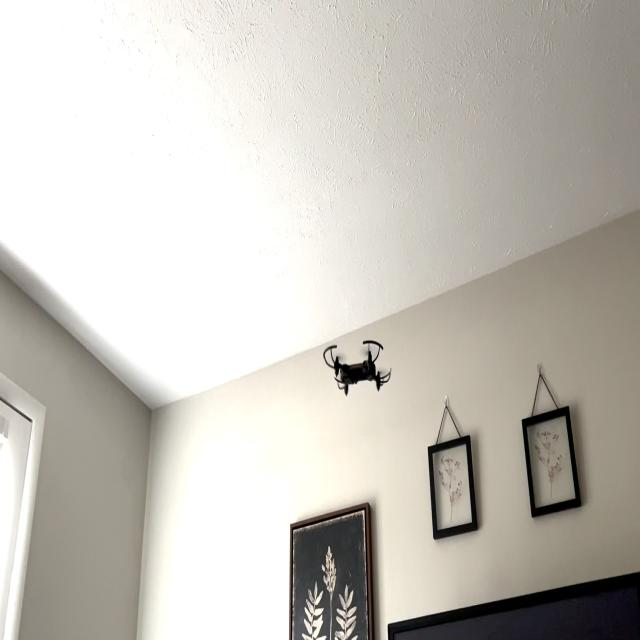drone: (319, 320, 403, 406)
